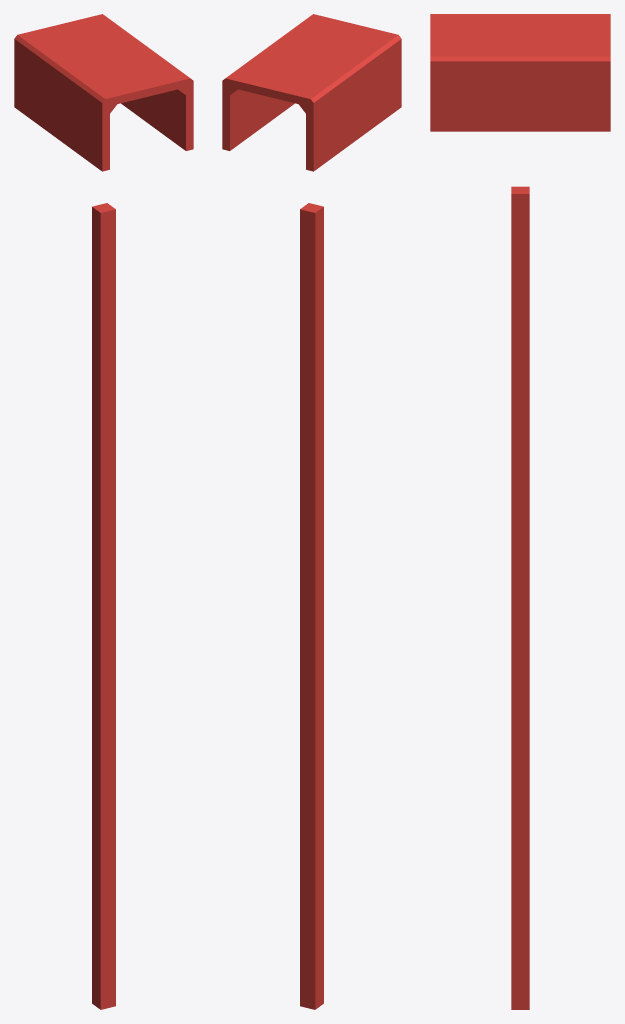
The model's file is boundary2-100-red.gltf.
3 views of the same model, side by side, from view 1: azimuth 30°, elevation 25°; view 2: azimuth 150°, elevation 25°; view 3: azimuth 270°, elevation 25° (orthographic). The views are drawn at different scales.
Visible parts, largest first — view 1: Box001; view 2: Box001; view 3: Box001.
Part boxes in pixels (left/top/right/bottom): Box001: left=14, top=14, right=193, bottom=1009; Box001: left=222, top=14, right=401, bottom=1009; Box001: left=430, top=14, right=610, bottom=1009.
Bounding box in the file's own units: 0.6 × 5.95 × 1.
